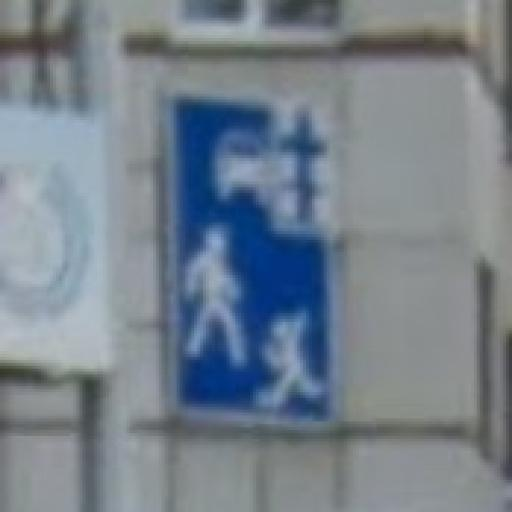traffic_sign: (163, 86, 345, 431)
